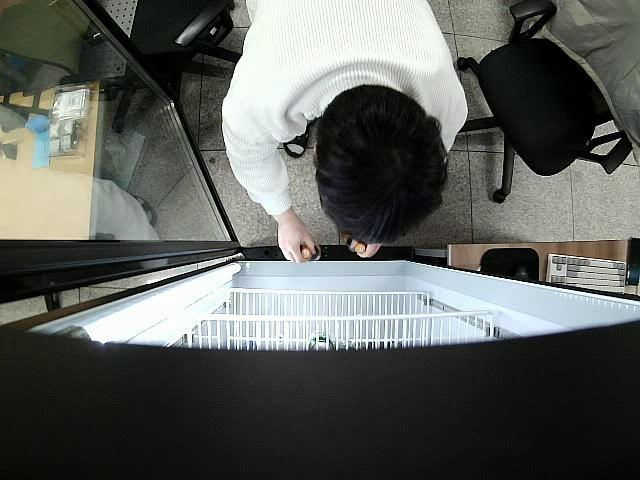17_vita500: (298, 243, 322, 262), (344, 237, 366, 256)
